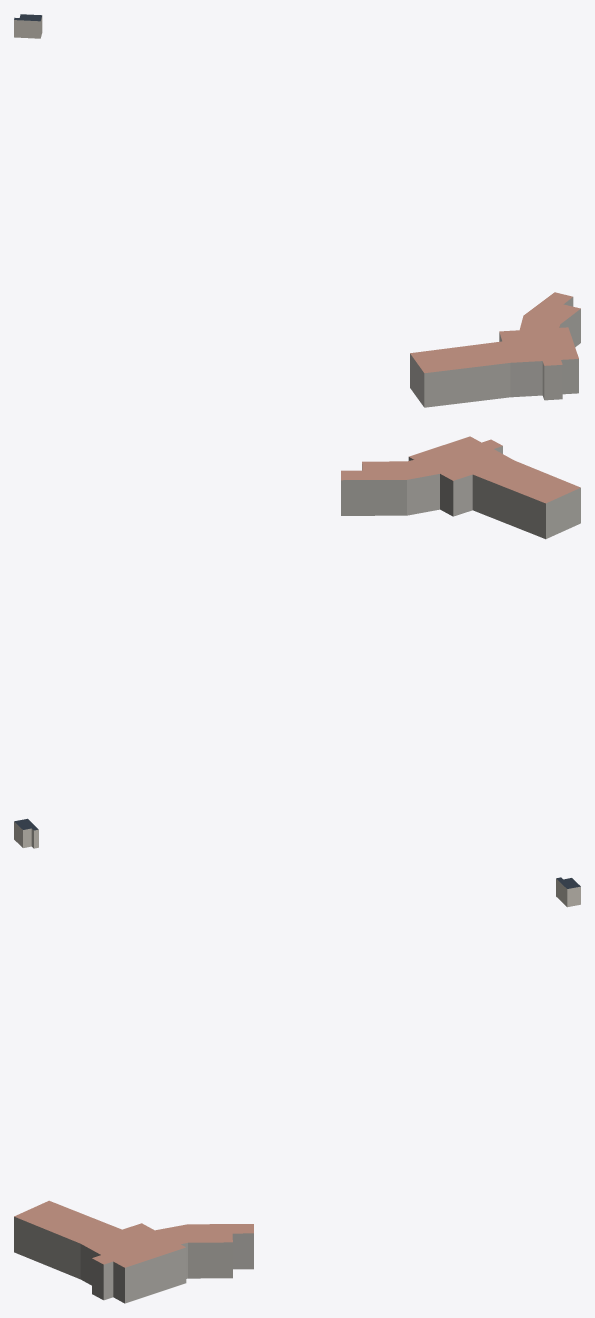
3 renders of one model, top to bottom at view 1: azimuth 30°, elevation 25°; view 2: azimuth 150°, elevation 25°; view 3: azimuth 330°, elevation 25°, orthographic. The views are drawn at different scales.
Parts seen in each view (by area): view 1: tuile; view 2: tuile; view 3: tuile.
Part boxes in pixels (<box>): tuile: <box>14,14,580,407</box>; tuile: <box>14,436,580,848</box>; tuile: <box>14,877,580,1303</box>.
Size of the model in its own units: 50.89 by 8.82 by 230.
